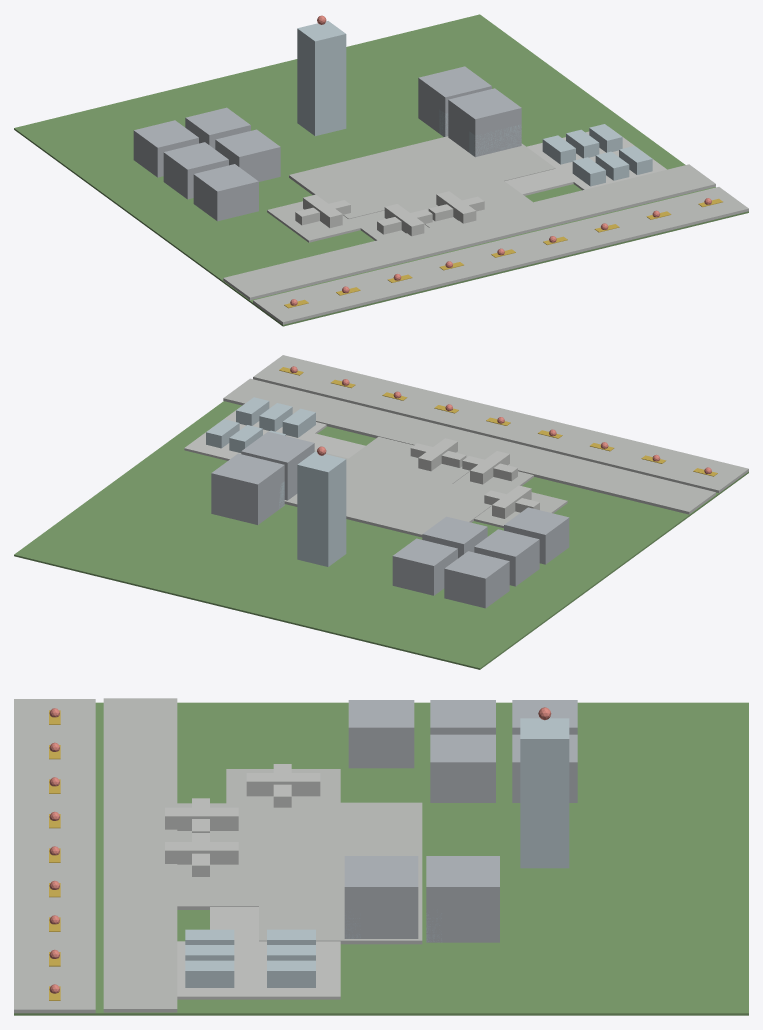
The model's file is stage_19.glb.
3 renders of one model, top to bottom at view 1: azimuth 30°, elevation 25°; view 2: azimuth 150°, elevation 25°; view 3: azimuth 270°, elevation 25°, orthographic. The views are drawn at different scales.
Visible parts, largest first — view 1: geometry_0; view 2: geometry_0; view 3: geometry_0.
Part boxes in pixels (x1,y1,x2,y2): geometry_0: (14, 14, 748, 326); geometry_0: (14, 355, 748, 669); geometry_0: (14, 698, 748, 1015).
Bounding box in the file's own units: 9 × 2.06 × 9.
